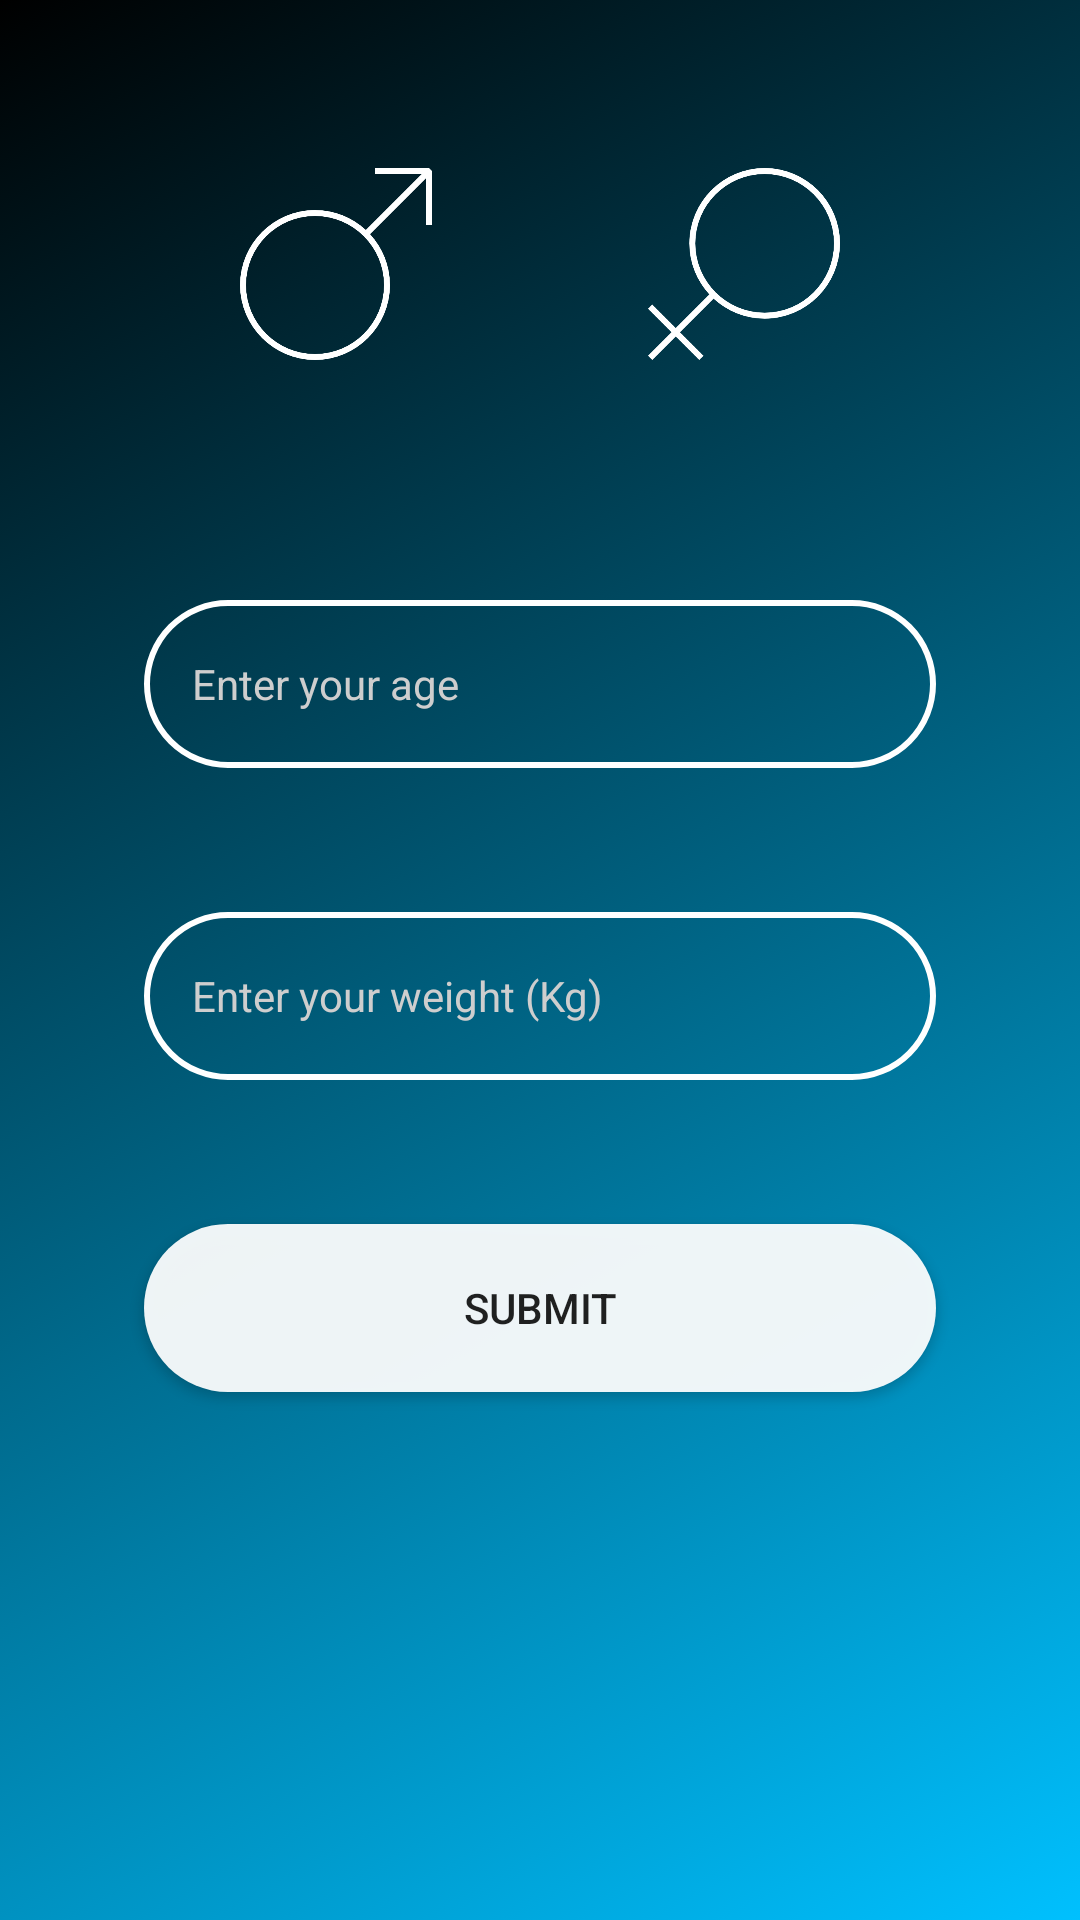

Screen size 1080px x 1920px. Icon name, then its box in pixels as (x1, y1, x2, y2):
female: (648, 168, 840, 360)
male: (240, 168, 432, 360)
